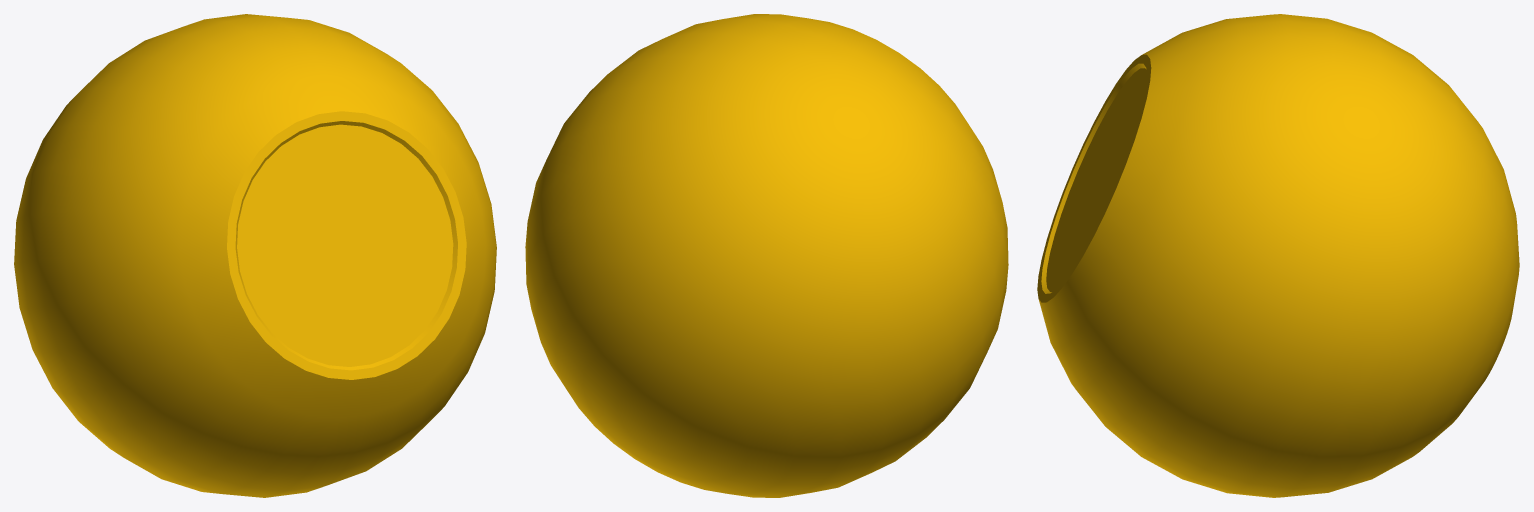
Rendered from light.gltf.
The picture shows the model from 3 angles, left to right: view 1: azimuth 30°, elevation 25°; view 2: azimuth 150°, elevation 25°; view 3: azimuth 270°, elevation 25°; orthographic projection.
Visible parts, largest first — view 1: Light; view 2: Light; view 3: Light.
Part boxes in pixels (x1=…): Light: x1=14, y1=14, x2=496, y2=497; Light: x1=525, y1=14, x2=1008, y2=497; Light: x1=1037, y1=14, x2=1519, y2=497.
Size of the model in its own units: 0.6176 by 0.617 by 0.6137.
